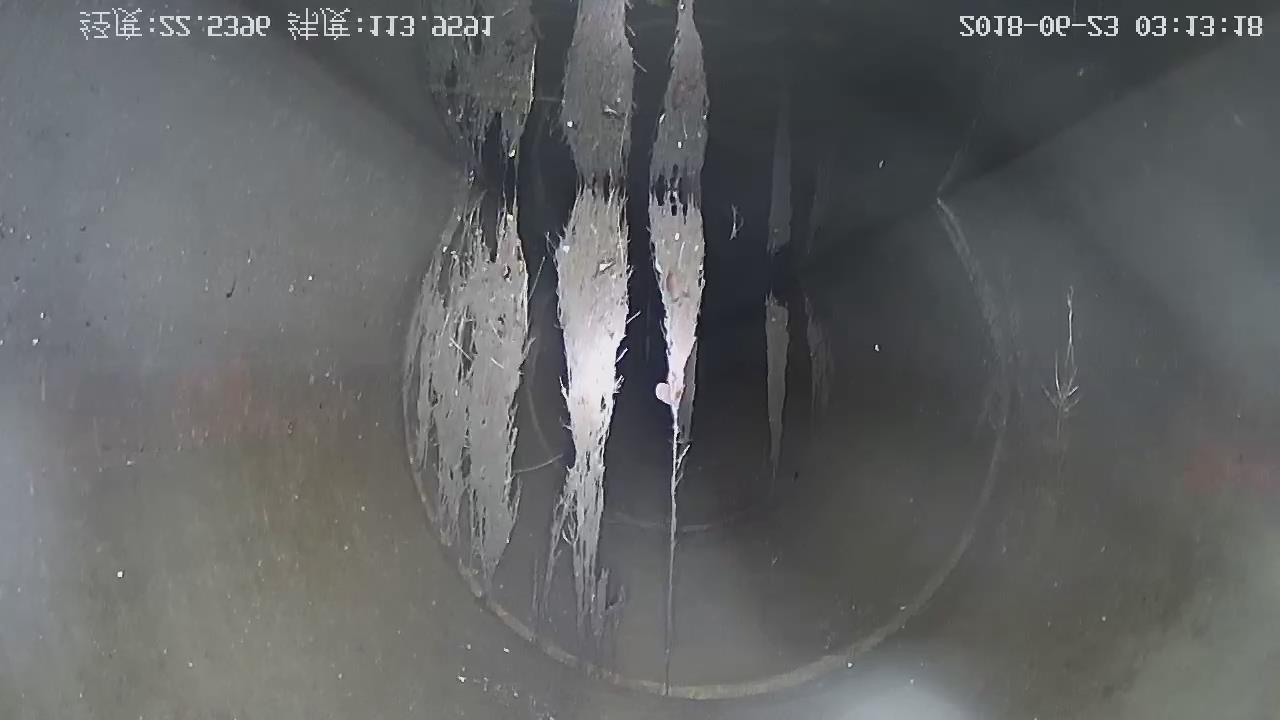CKTJ: (395, 169, 1023, 707)
SG: (406, 181, 639, 662), (638, 189, 710, 694), (762, 293, 789, 476)
